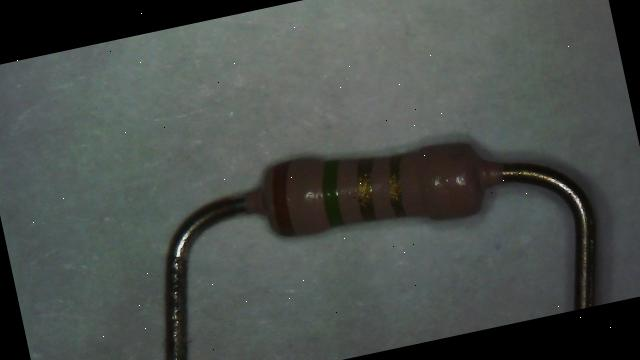brown: (265, 161, 304, 236)
gold: (349, 156, 384, 221), (382, 155, 412, 216)
green: (315, 158, 351, 226)
resistor: (238, 115, 509, 250)
